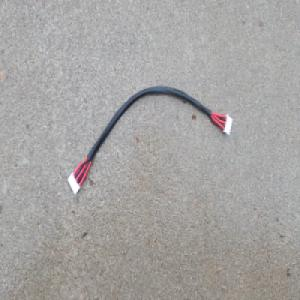Wire: (64, 83, 234, 199)
